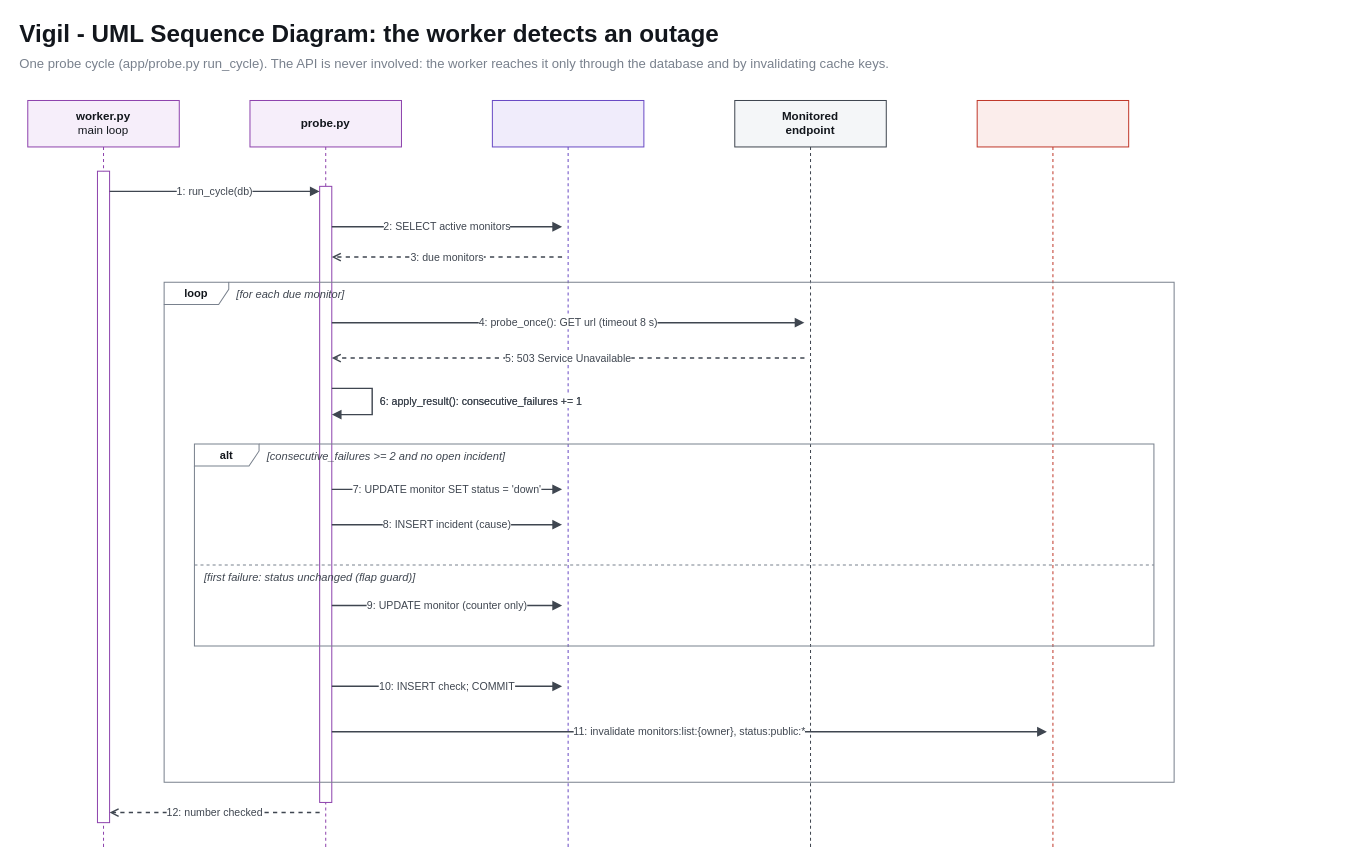
Some shapes in this 1347 by 866 pixel diagram are drawn without their labels. The shapes that lost their labels are listed below. From the top down, each one's box as (x1, y1, x2, y2) in pixels, then its label:
(491, 99, 644, 848): PostgreSQL
(976, 99, 1129, 848): Redis
